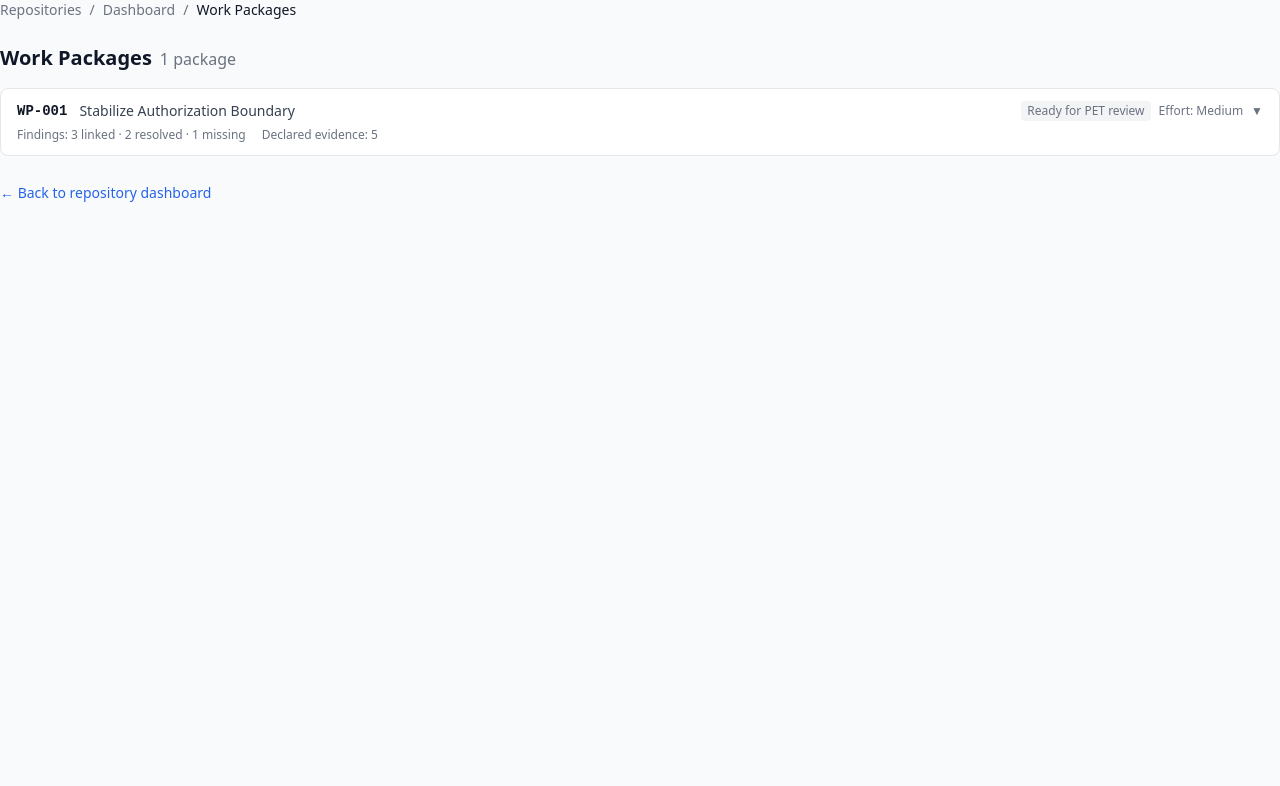
WorkPackages view states › renders objective and current risk in expanded detail
Check: the text "Stabilize Authorization Boundary" is shown, box [79, 101, 295, 121]
Click the button at (42, 111), box [1, 89, 1279, 155]
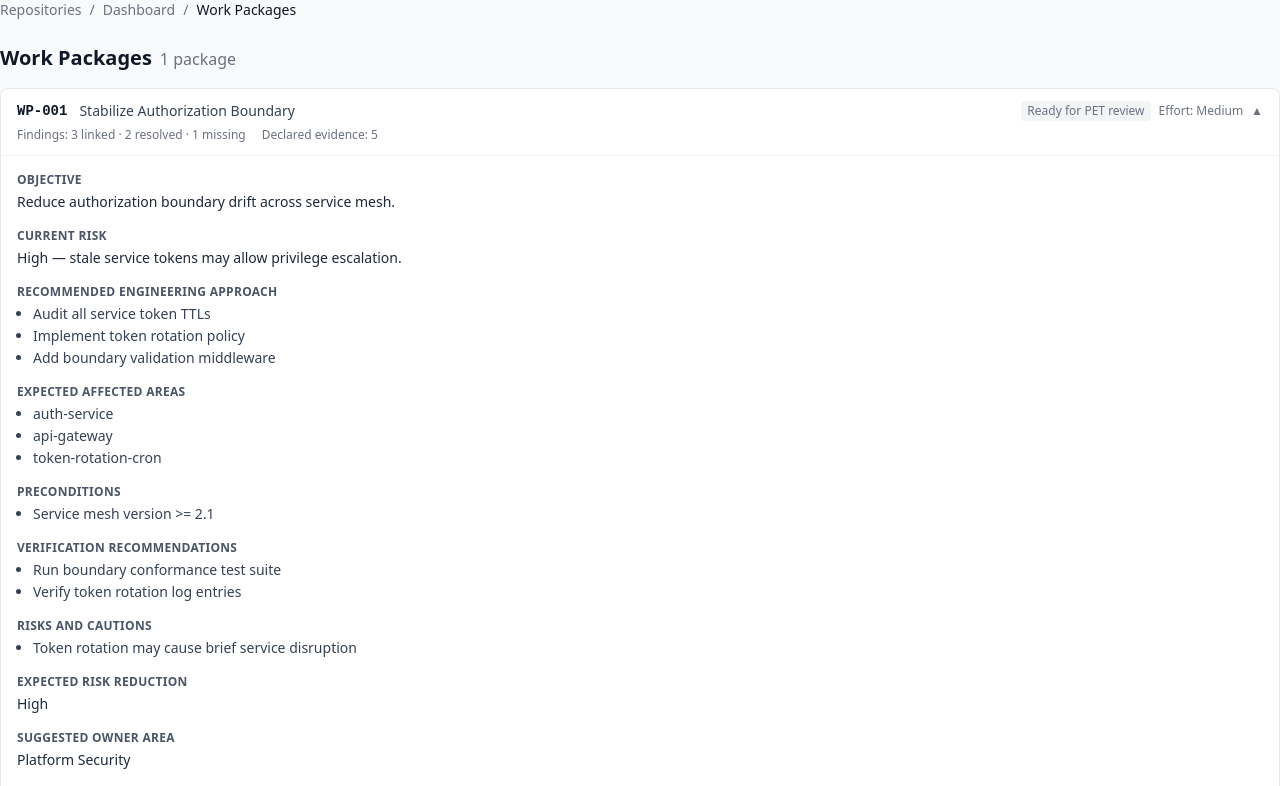
Check: the text "Reduce authorization boundary drift across service mesh." is shown, box [17, 192, 395, 211]
Check: the text "High — stale service tokens may allow privilege escalation." is shown, box [17, 248, 402, 267]
